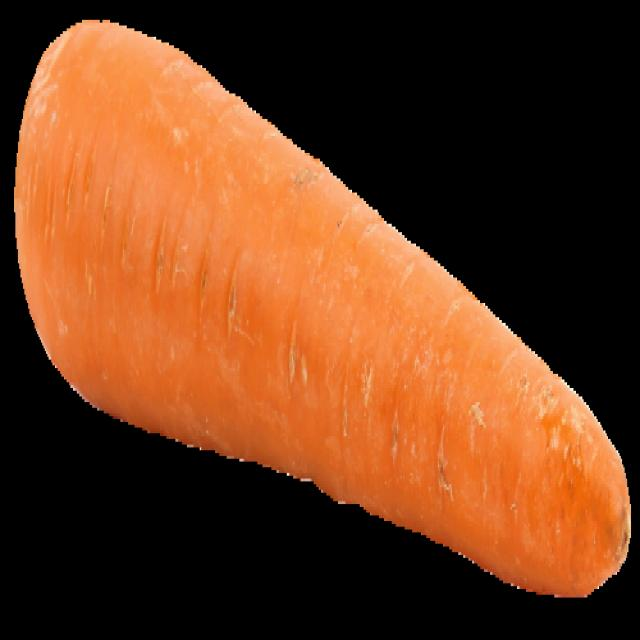Carrot: (16, 20, 630, 613)
